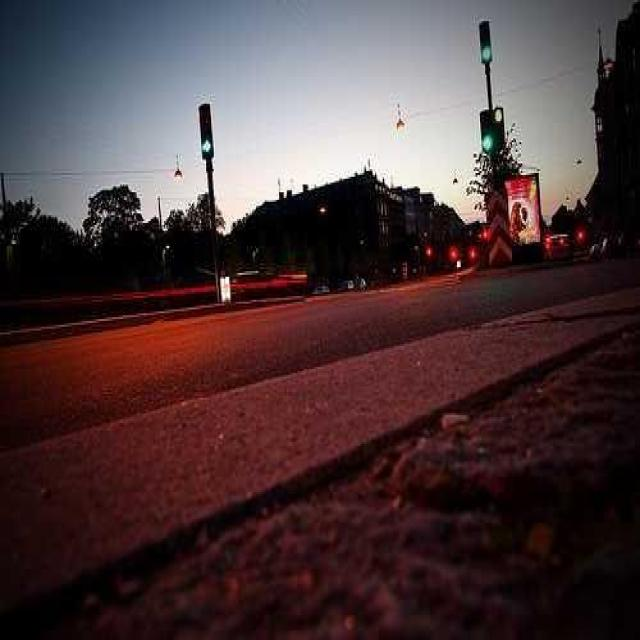Traffic Light -Green-: (476, 18, 499, 68), (198, 104, 215, 161), (477, 104, 493, 163)
Traffic Light -Red-: (494, 106, 508, 162)
